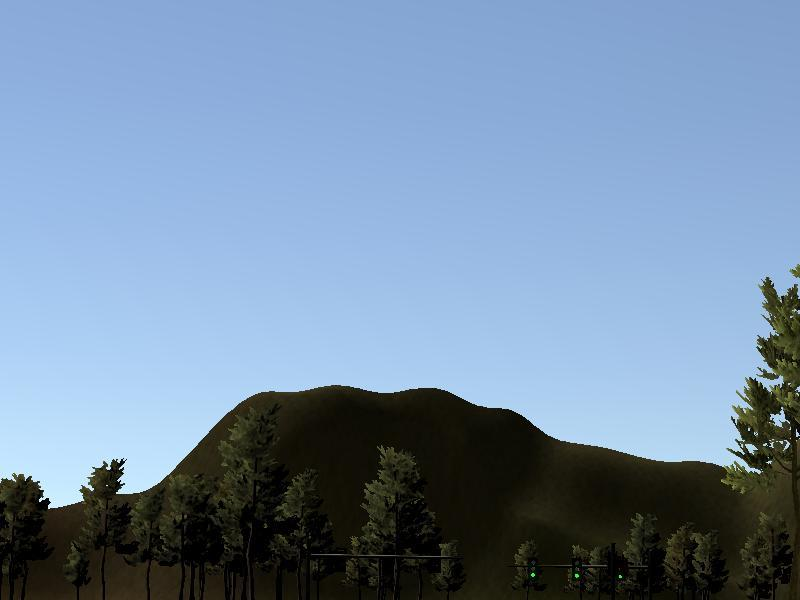Green: (613, 555, 628, 583), (526, 557, 537, 581), (571, 557, 581, 581)
